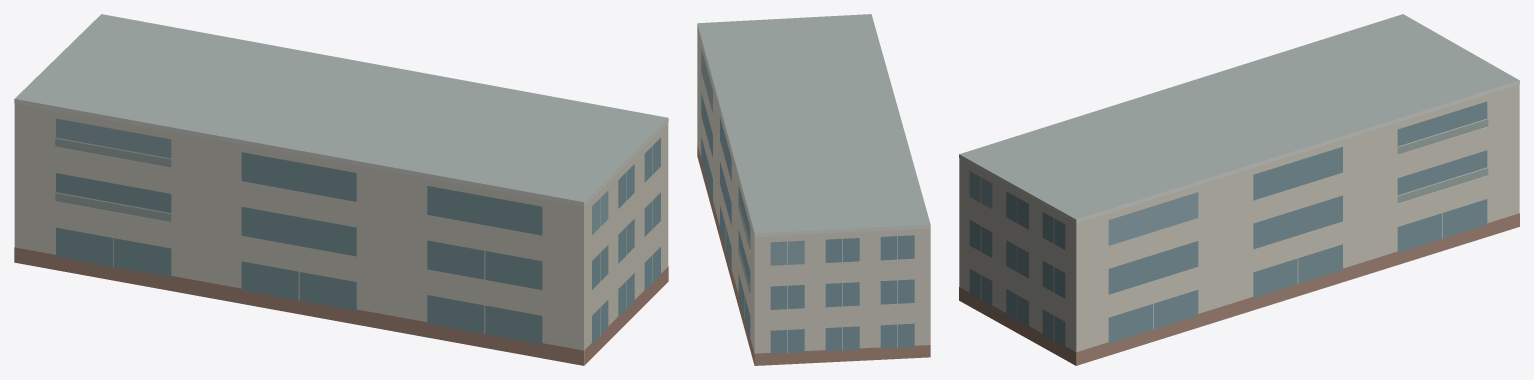
Rendered from survey-upis-32754233.glb.
The picture shows the model from 3 angles, left to right: view 1: azimuth 30°, elevation 25°; view 2: azimuth 150°, elevation 25°; view 3: azimuth 270°, elevation 25°; orthographic projection. The views are drawn at different scales.
Visible parts, largest first — view 1: survey-upis-32754233.tmp; view 2: survey-upis-32754233.tmp; view 3: survey-upis-32754233.tmp.
Part boxes in pixels (<box>): survey-upis-32754233.tmp: <box>14,14,668,365</box>; survey-upis-32754233.tmp: <box>697,14,930,365</box>; survey-upis-32754233.tmp: <box>959,14,1519,365</box>.
Size of the model in its own units: 27.56 by 9.15 by 31.77.
